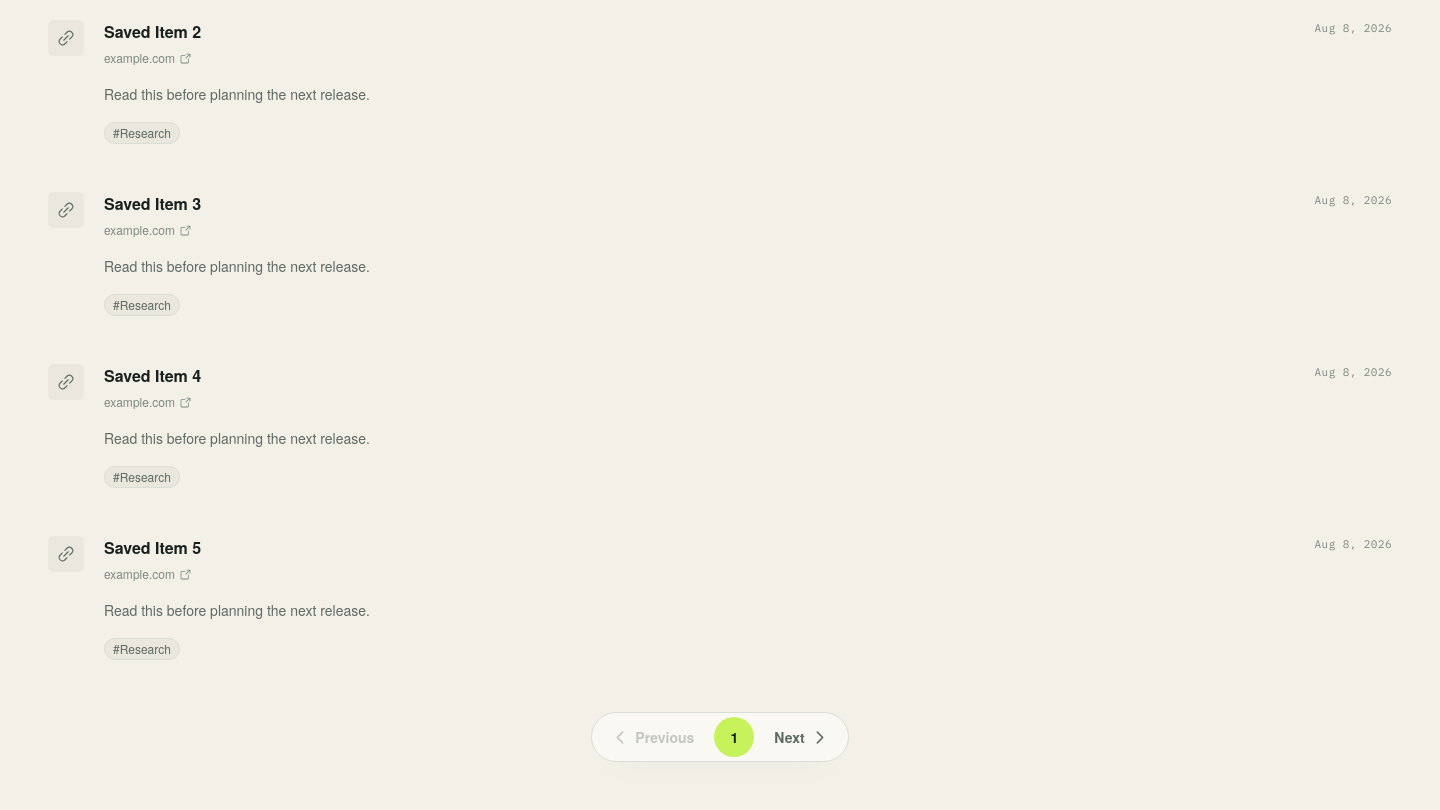
Test: Library data feature › keeps optimistic overflow Items reachable before the server refetch finishes
(page scrolled)
Expected: the heading "Saved Item 6" is not shown
Step 1. Click the button with aria-label "Next Library page" → [801, 737], box [758,717,844,757]
(page scrolled)
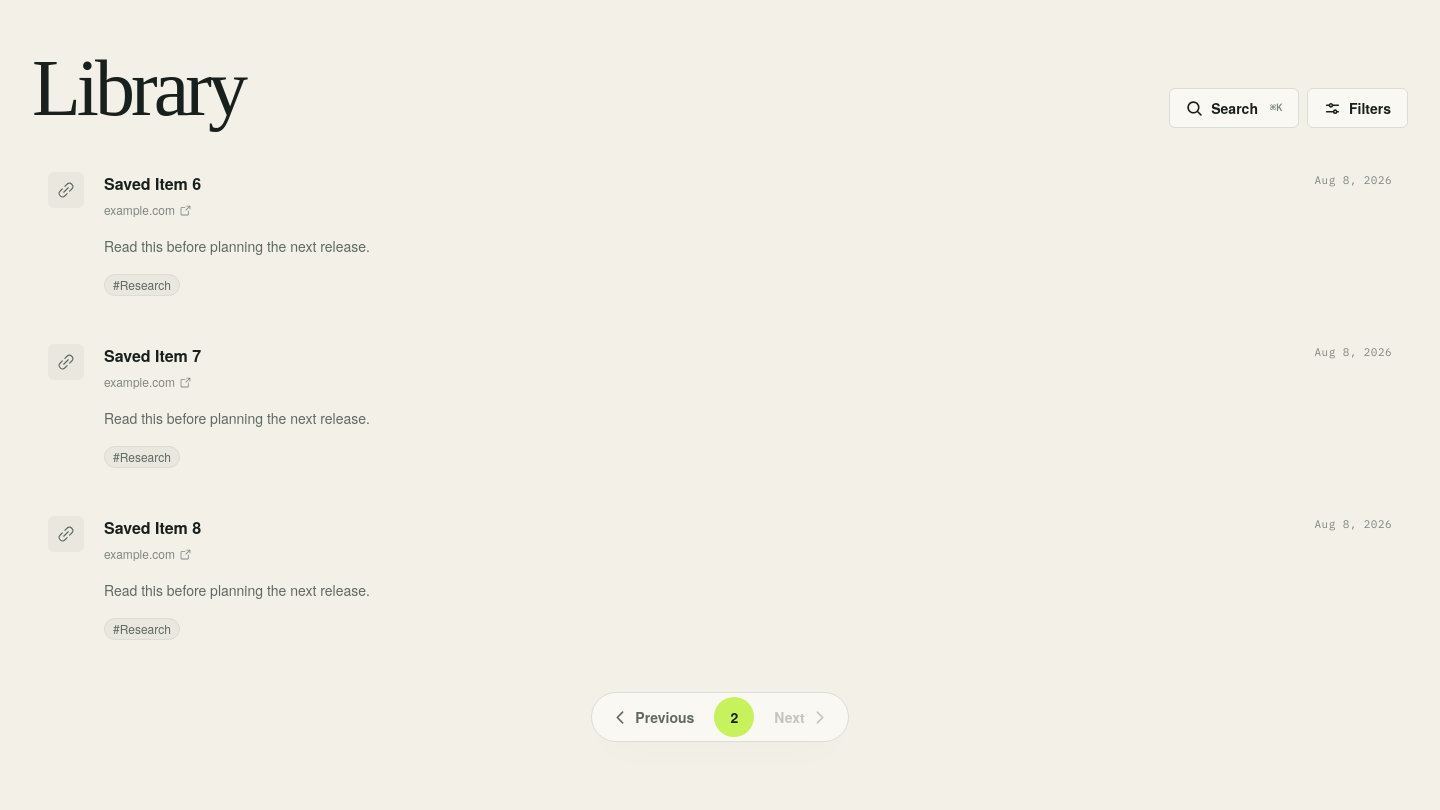
Result: the heading "Saved Item 6" is shown at [104,172,201,196]
Result: the text "2" is shown at [714,697,754,737]
